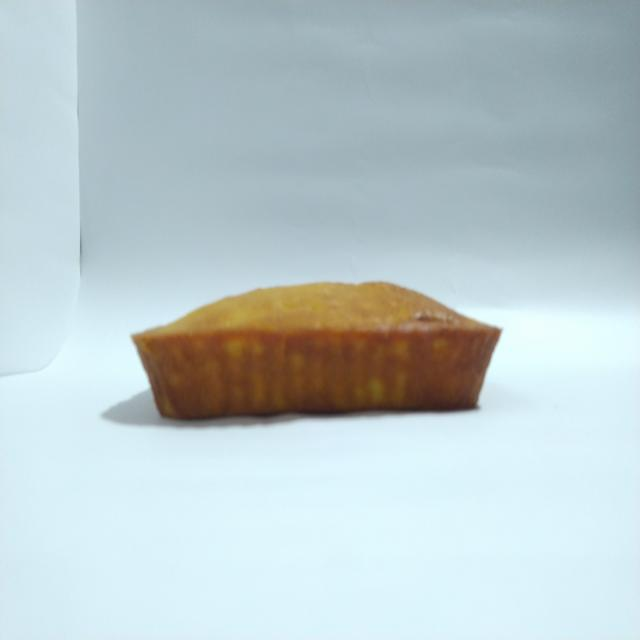Food: (130, 267, 507, 446)
